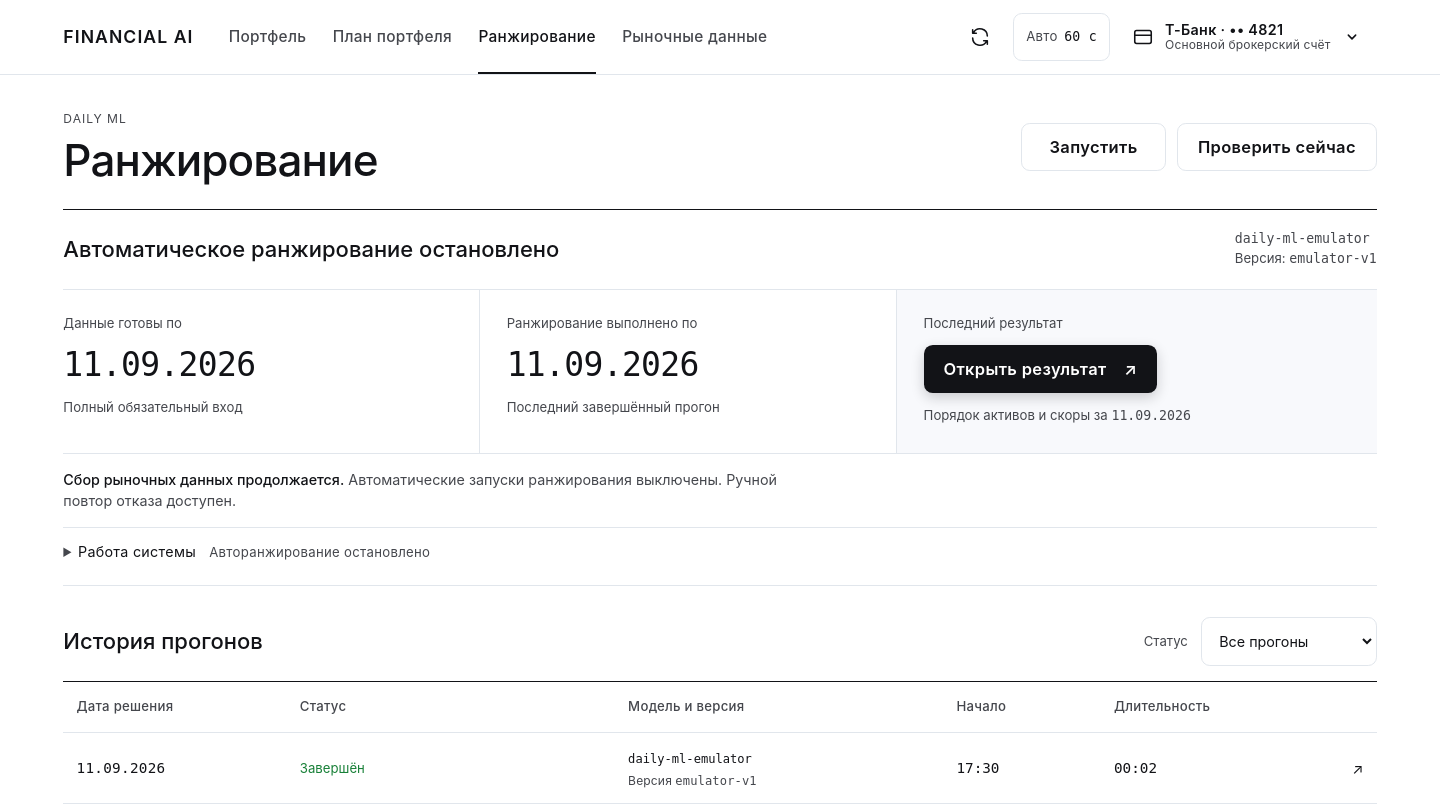
Test case: следующий запуск › после остановки запуск не планируется
Expected: the heading "Автоматическое ранжирование остановлено" is shown, [63, 236, 559, 262]
Click the text "Работа системы".
click(137, 552)  # box [78, 543, 196, 560]
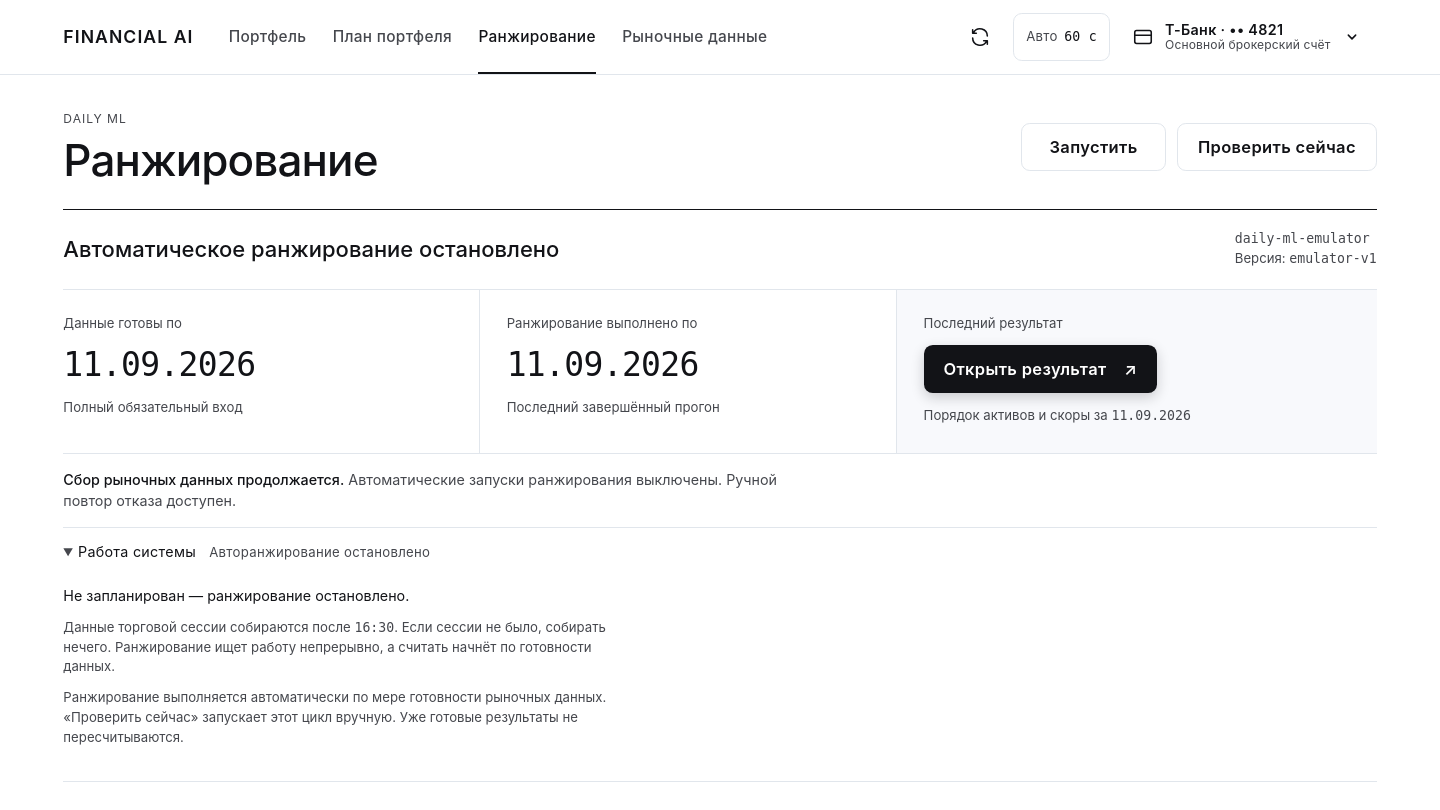
Result: the text "Не запланирован — ранжирование остановлено." is shown at [63, 587, 409, 604]
